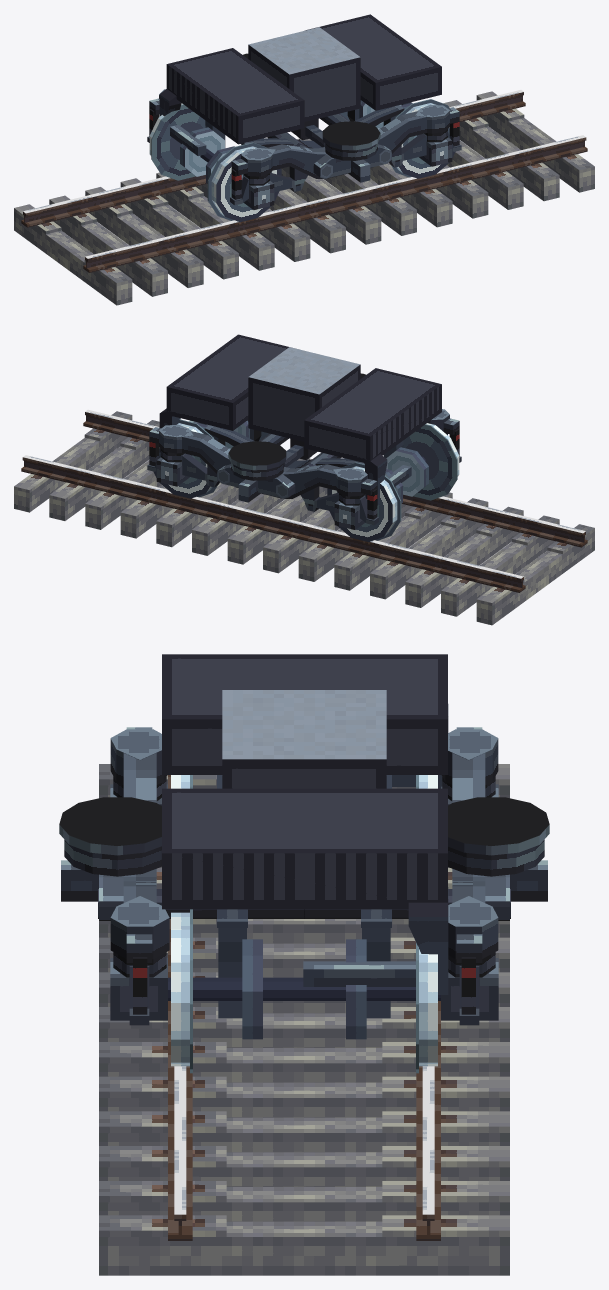
The model's file is sw220k_bogey.glb.
3 renders of one model, top to bottom at view 1: azimuth 30°, elevation 25°; view 2: azimuth 150°, elevation 25°; view 3: azimuth 270°, elevation 25°, orthographic. The views are drawn at different scales.
Visible parts, largest first — view 1: track_mesh, body_mesh, underbody_mesh, wheel_0, wheel_1; view 2: track_mesh, body_mesh, underbody_mesh, wheel_0, wheel_1; view 3: track_mesh, body_mesh, underbody_mesh, wheel_1.
Part boxes in pixels (x1=…): track_mesh: x1=14, y1=90, x2=594, y2=305; body_mesh: x1=159, y1=14, x2=441, y2=155; underbody_mesh: x1=147, y1=53, x2=461, y2=209; wheel_0: x1=149, y1=103, x2=281, y2=222; wheel_1: x1=340, y1=99, x2=455, y2=178; track_mesh: x1=14, y1=409, x2=594, y2=625; body_mesh: x1=159, y1=334, x2=441, y2=505; underbody_mesh: x1=147, y1=373, x2=461, y2=529; wheel_0: x1=327, y1=423, x2=459, y2=541; wheel_1: x1=153, y1=419, x2=268, y2=498; track_mesh: x1=99, y1=764, x2=509, y2=1275; body_mesh: x1=162, y1=654, x2=448, y2=994; underbody_mesh: x1=59, y1=727, x2=549, y2=1025; wheel_1: x1=168, y1=909, x2=440, y2=1073.
Size of the model in its own units: 7 by 2.13 by 2.98.
Materials: 2 (2 with a texture image).
